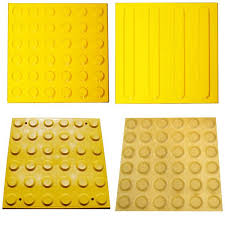block(line type): (115, 4, 216, 103)
block(point type): (9, 4, 107, 101), (7, 119, 108, 209), (122, 118, 218, 207)
